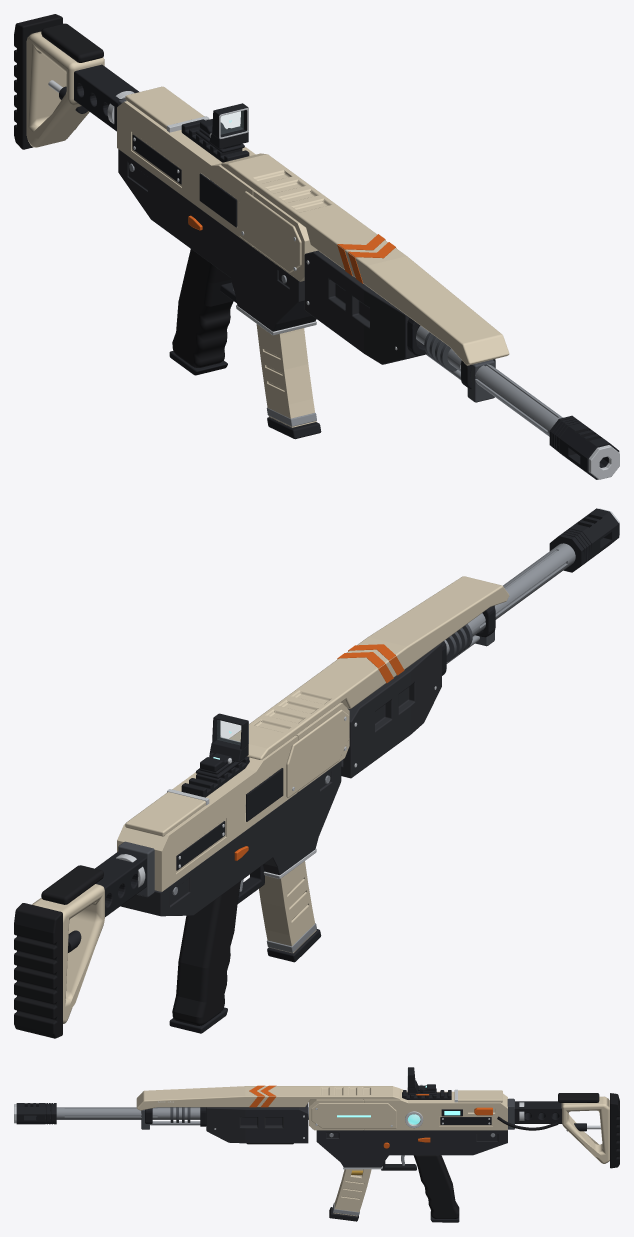
The picture shows the model from 3 angles, top to bottom: view 1: azimuth 30°, elevation 25°; view 2: azimuth 150°, elevation 25°; view 3: azimuth 270°, elevation 25°; orthographic projection. The views are drawn at different scales.
Parts seen in each view (by area): view 1: top_shroud, lower, handguard, upper, stock, grip, magazine, armor_r, barrel, stock_spine, butt_pad, muzzle (+7 smaller); view 2: top_shroud, lower, upper, handguard, butt_pad, grip, stock, magazine, armor_r, barrel, muzzle, top_cover (+6 smaller); view 3: lower, top_shroud, handguard, upper, armor_l, grip, barrel, stock, magazine, stock_spine, muzzle, butt_pad (+5 smaller).
Part boxes in pixels (left/top/right/bottom): top_shroud: left=221, top=153, right=509, bottom=365; lower: left=118, top=149, right=316, bottom=331; handguard: left=304, top=250, right=424, bottom=364; upper: left=117, top=101, right=317, bottom=281; stock: left=26, top=31, right=104, bottom=147; grip: left=172, top=249, right=233, bottom=367; magazine: left=256, top=324, right=316, bottom=427; armor_r: left=239, top=191, right=301, bottom=272; barrel: left=416, top=325, right=562, bottom=436; stock_spine: left=74, top=64, right=138, bottom=131; butt_pad: left=14, top=14, right=62, bottom=149; muzzle: left=549, top=415, right=619, bottom=479; top_shroud: left=229, top=576, right=509, bottom=759; lower: left=120, top=761, right=341, bottom=916; upper: left=117, top=702, right=349, bottom=891; handguard: left=341, top=643, right=441, bottom=778; butt_pad: left=14, top=903, right=62, bottom=1038; grip: left=172, top=881, right=240, bottom=1025; stock: left=32, top=884, right=104, bottom=1023; magazine: left=259, top=861, right=316, bottom=953; armor_r: left=286, top=709, right=349, bottom=797; barrel: left=444, top=543, right=575, bottom=655; muzzle: left=549, top=508, right=619, bottom=572; top_cover: left=125, top=792, right=205, bottom=836; lower: left=316, top=1130, right=507, bottom=1167; top_shroud: left=136, top=1086, right=400, bottom=1110; handguard: left=206, top=1103, right=308, bottom=1143; upper: left=309, top=1089, right=507, bottom=1130; armor_l: left=311, top=1103, right=396, bottom=1128; grip: left=413, top=1155, right=459, bottom=1218; barrel: left=56, top=1107, right=308, bottom=1119; stock: left=561, top=1096, right=609, bottom=1163; magazine: left=333, top=1169, right=371, bottom=1216; stock_spine: left=514, top=1101, right=562, bottom=1123; muzzle: left=16, top=1103, right=56, bottom=1124; butt_pad: left=610, top=1093, right=619, bottom=1168.
Bounding box in the file's own units: 0.0522 × 0.26 × 0.9686.
